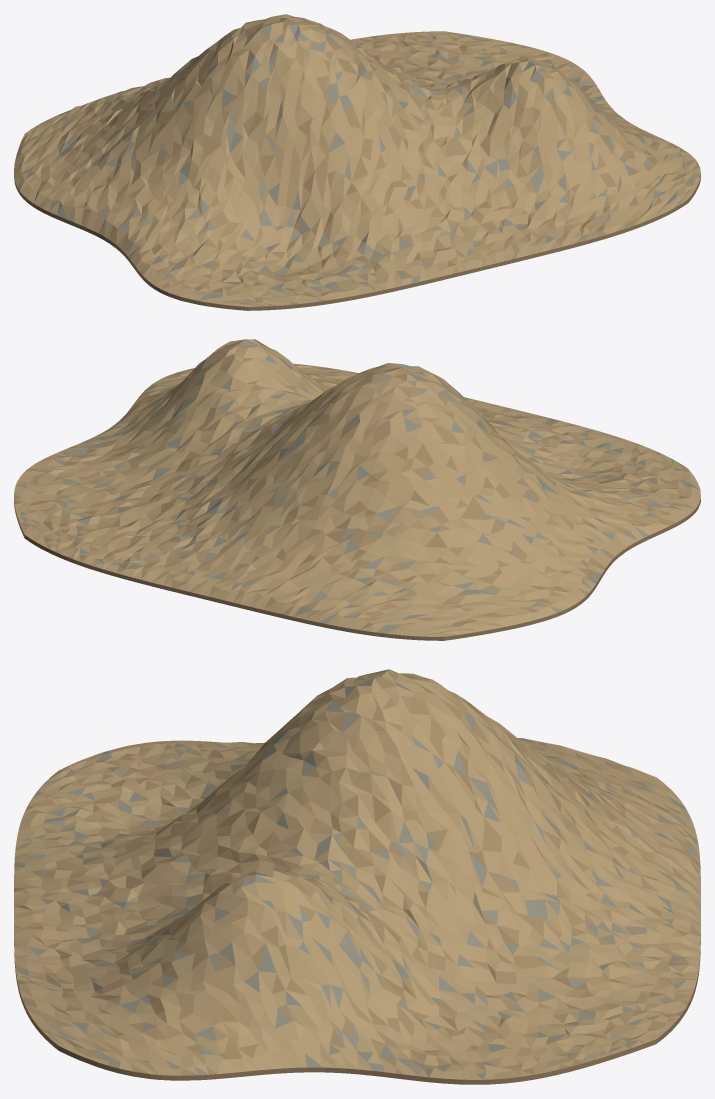
The picture shows the model from 3 angles, top to bottom: view 1: azimuth 30°, elevation 25°; view 2: azimuth 150°, elevation 25°; view 3: azimuth 270°, elevation 25°; orthographic projection. The views are drawn at different scales.
Parts seen in each view (by area): view 1: irregular_ice_contact_sand_gravel_kame_mound_unequal_crest_s; view 2: irregular_ice_contact_sand_gravel_kame_mound_unequal_crest_s; view 3: irregular_ice_contact_sand_gravel_kame_mound_unequal_crest_s.
Part boxes in pixels (x1,y1,x2,y2): irregular_ice_contact_sand_gravel_kame_mound_unequal_crest_s: (14,14,700,310); irregular_ice_contact_sand_gravel_kame_mound_unequal_crest_s: (14,339,700,640); irregular_ice_contact_sand_gravel_kame_mound_unequal_crest_s: (14,669,700,1084).
Size of the model in its own units: 82.78 by 22.55 by 70.
